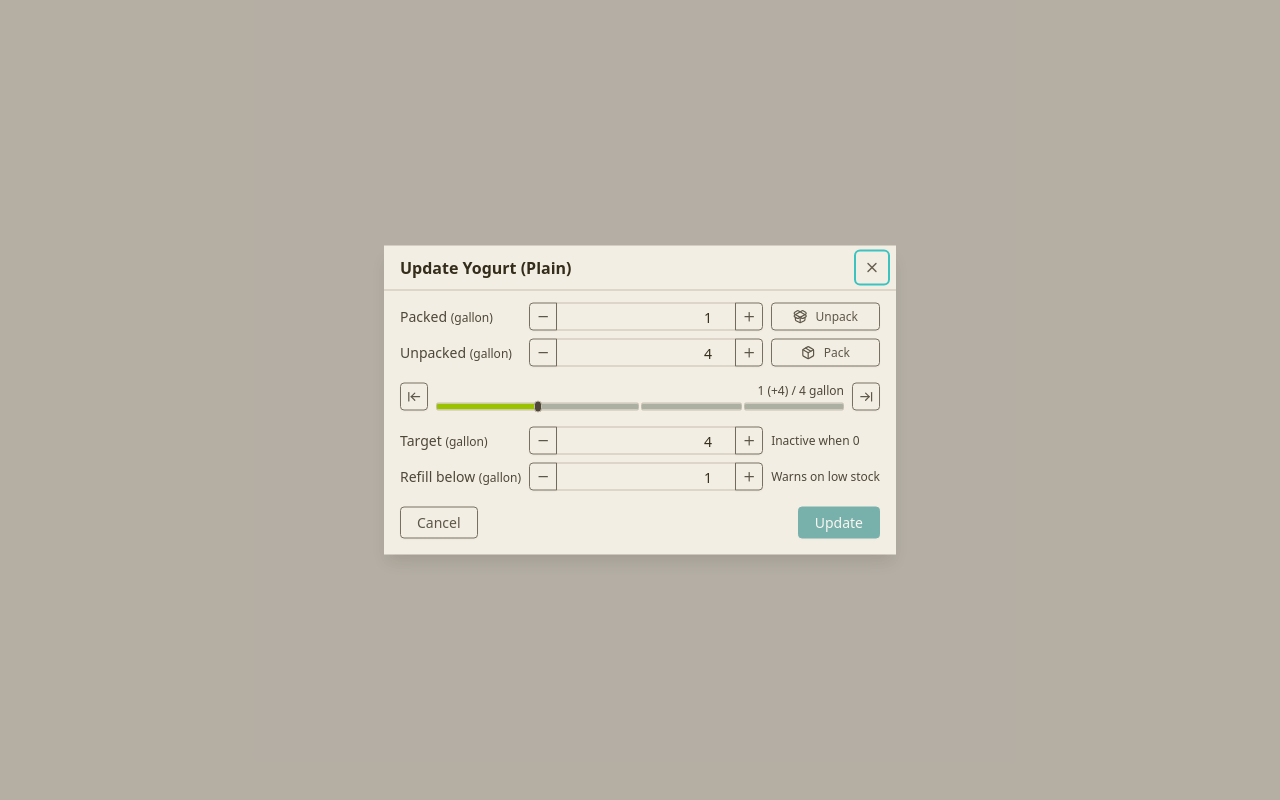
Test: QuickUpdateDialog — stepper fallback for consumeAmount 0 › user still steps by the configured amount when consumeAmount is set
When the user clicks + and then −
Click the button named "Increase unpacked": (749, 352) [735,338,763,366]
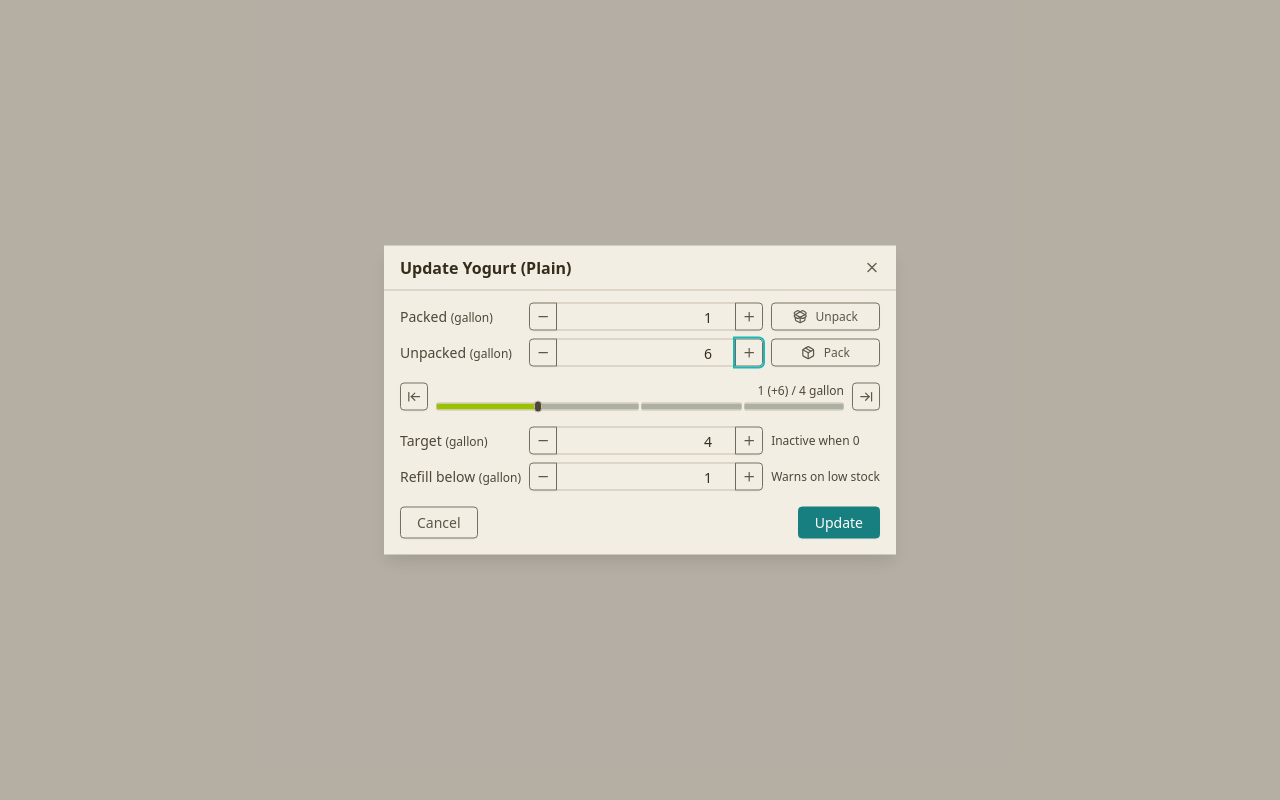
expect the number field named "Unpacked (gallon)" holds "6": met, box [556,338,736,366]
Click the button named "Decrease unpacked": (543, 352) [529,338,557,366]
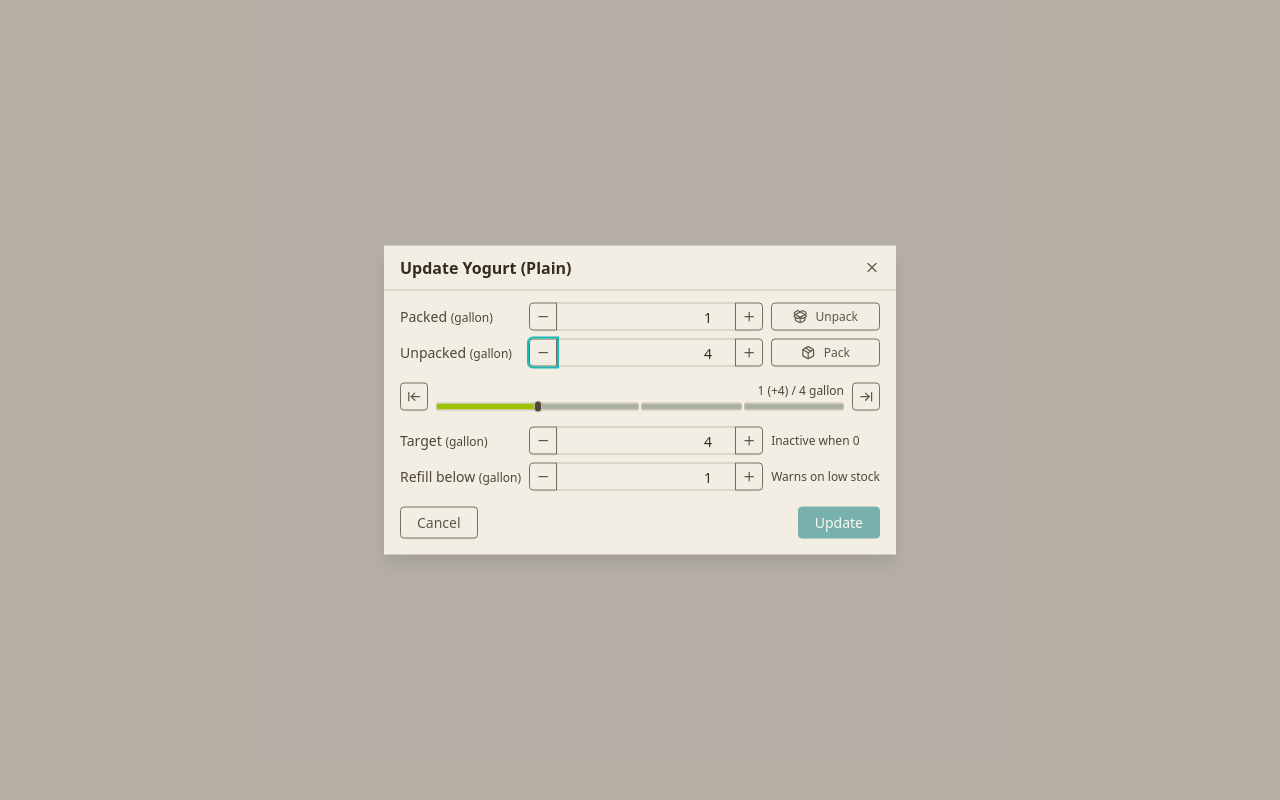
expect the number field named "Unpacked (gallon)" holds "4": met, box [556,338,736,366]
